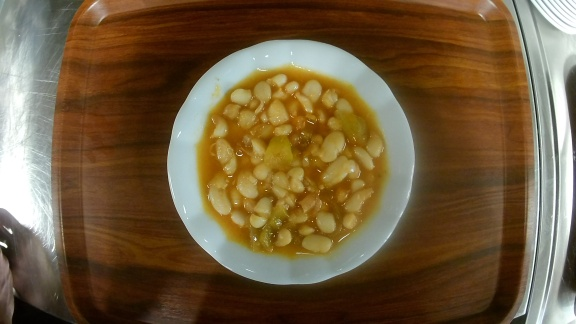kurufasulye: (166, 38, 415, 287)
